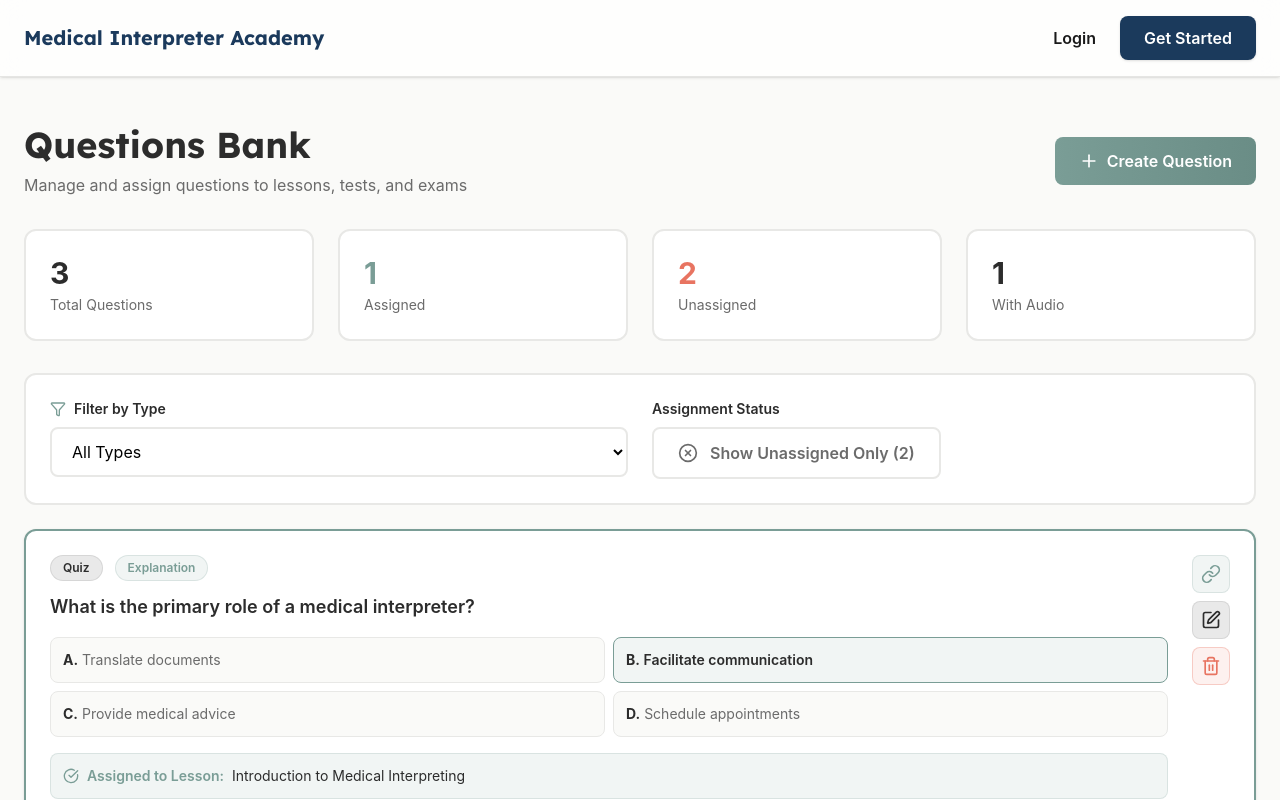
Scenario: AdminQuestions Page › Delete Question › should open delete confirmation modal
Expected: the text "What is the primary role of a medical interpreter?" is shown, x1=50 y1=596 x2=475 y2=617
Click the button titled "Delete" at (1211, 666), box x1=1192 y1=647 x2=1230 y2=685
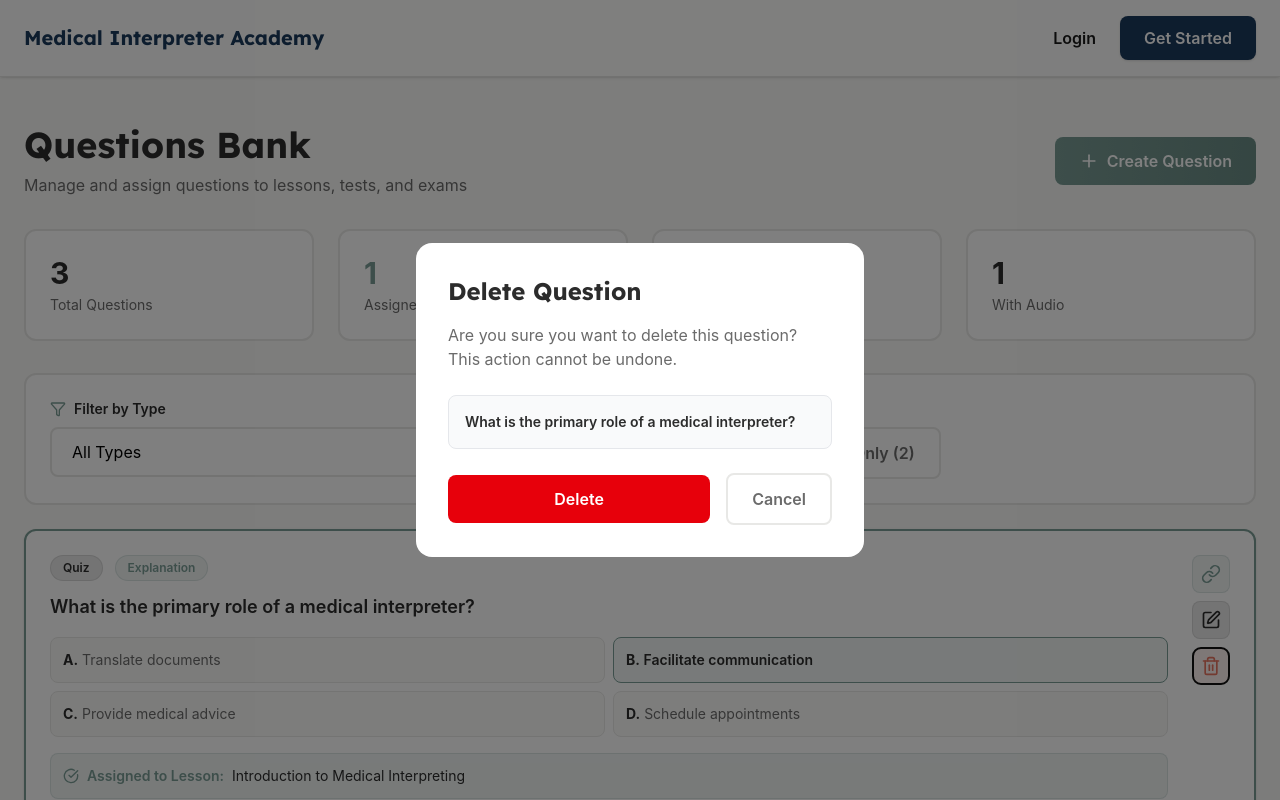
Expected: the heading "Delete Question" is shown, x1=448 y1=276 x2=642 y2=306
